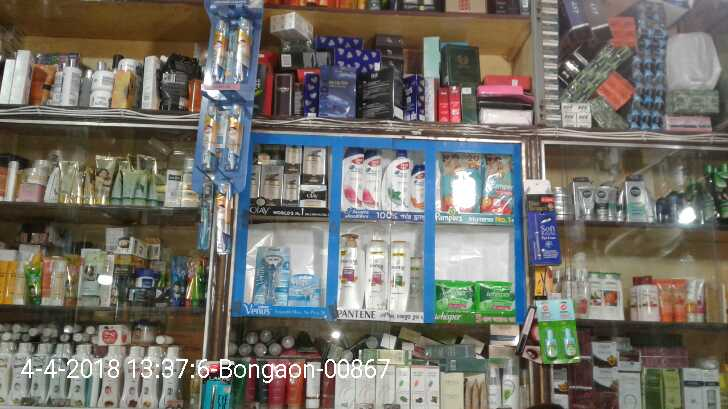venus: (253, 247, 289, 303), (290, 274, 320, 304)
